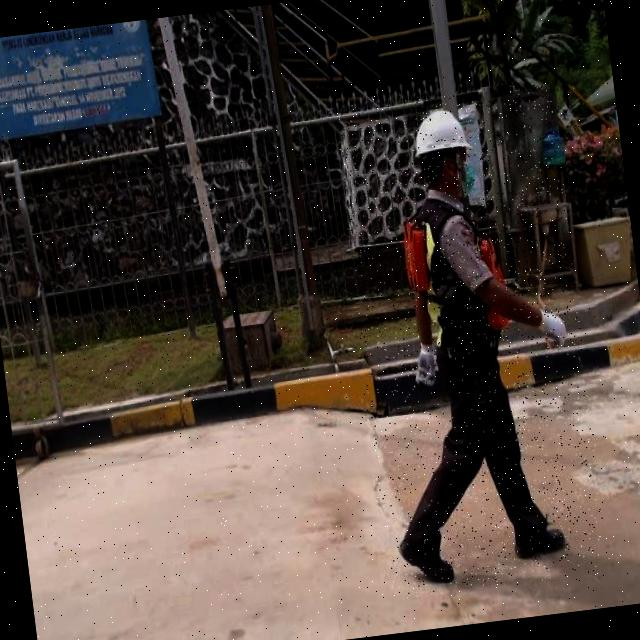boots: (396, 522, 459, 592), (510, 518, 574, 567)
helmet: (410, 102, 474, 166)
vest: (396, 190, 514, 350)
